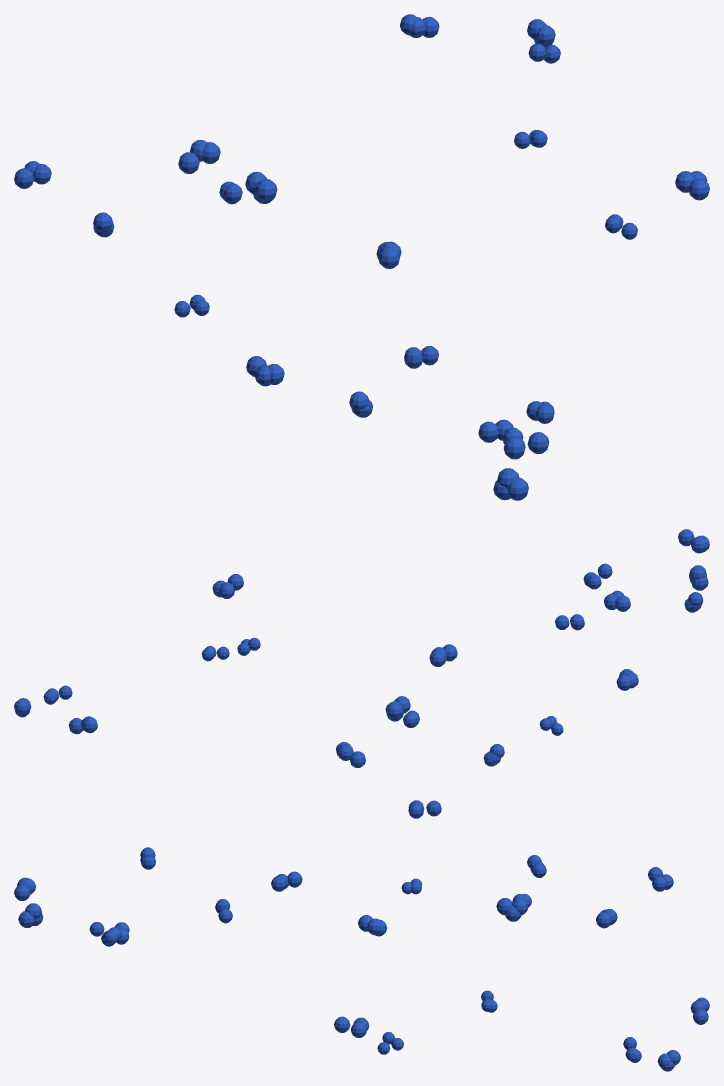
File: CanopyW1_AjisaBlue.fbx
The picture shows the model from 3 angles, top to bottom: view 1: azimuth 30°, elevation 25°; view 2: azimuth 150°, elevation 25°; view 3: azimuth 270°, elevation 25°; orthographic projection. The views are drawn at different scales.
Parts seen in each view (by area): view 1: CanopyW0_0.001; view 2: CanopyW0_0.001; view 3: CanopyW0_0.001.
Part boxes in pixels (x1,y1,x2,y2): CanopyW0_0.001: (14, 14, 709, 500); CanopyW0_0.001: (14, 529, 709, 818); CanopyW0_0.001: (14, 847, 709, 1071).
Size of the model in its own units: 16167 by 2055 by 23442.
